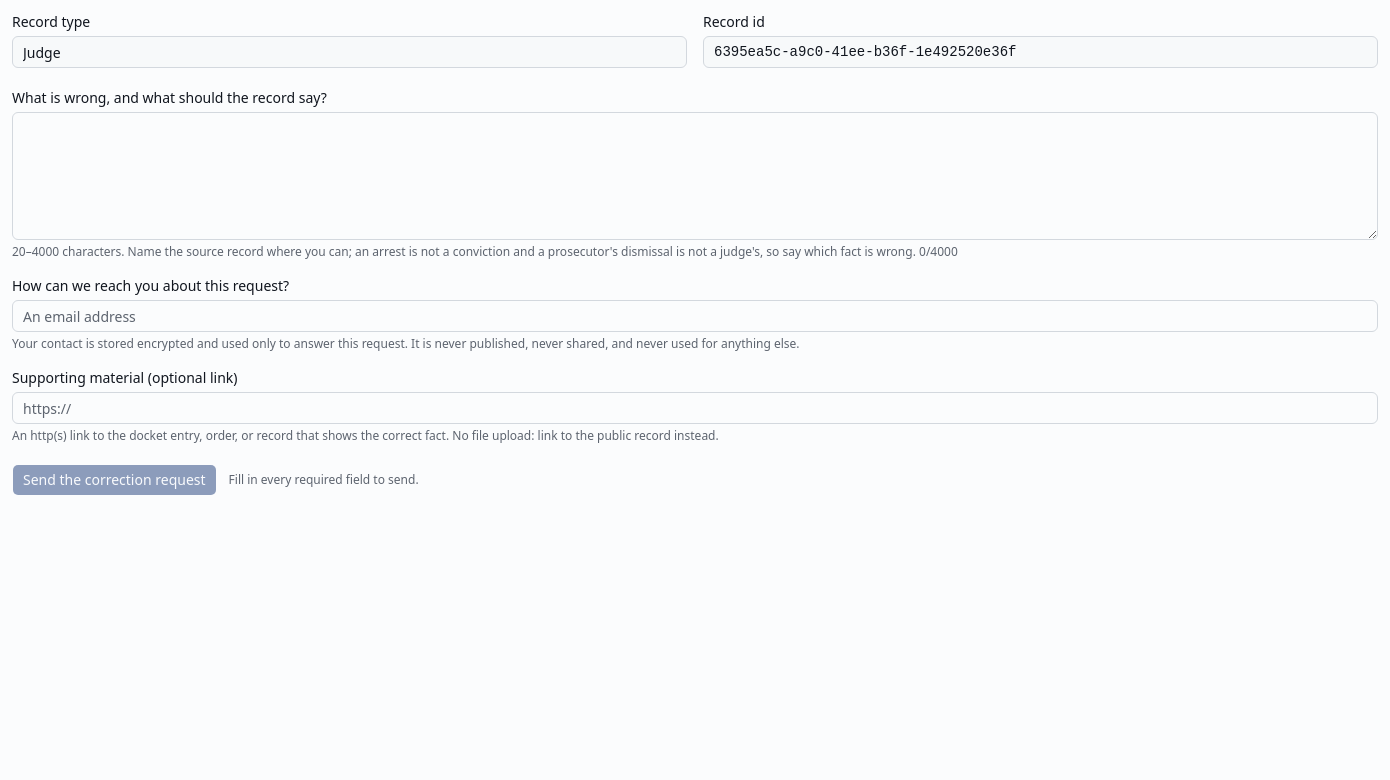
Scenario: CorrectionForm › shows the API's field errors from a 422 beside the fields
In the text box with test id "reason": coordinates (695, 176) [12, 112, 1378, 240], type "The commission date shown is 2009-08-06 but the source record says 2009-08-08."
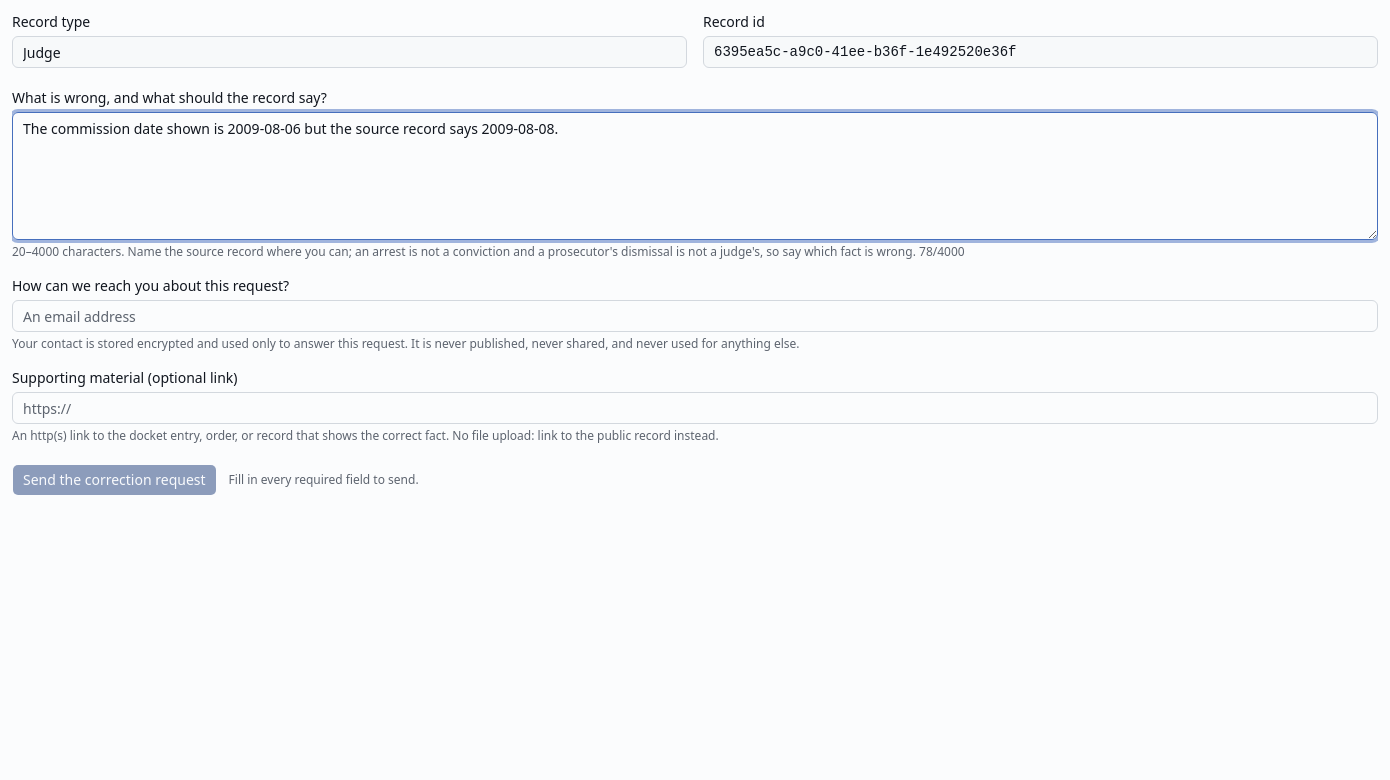
In the field with test id "contact": coordinates (695, 316) [12, 300, 1378, 332], type "requester@example.invalid"
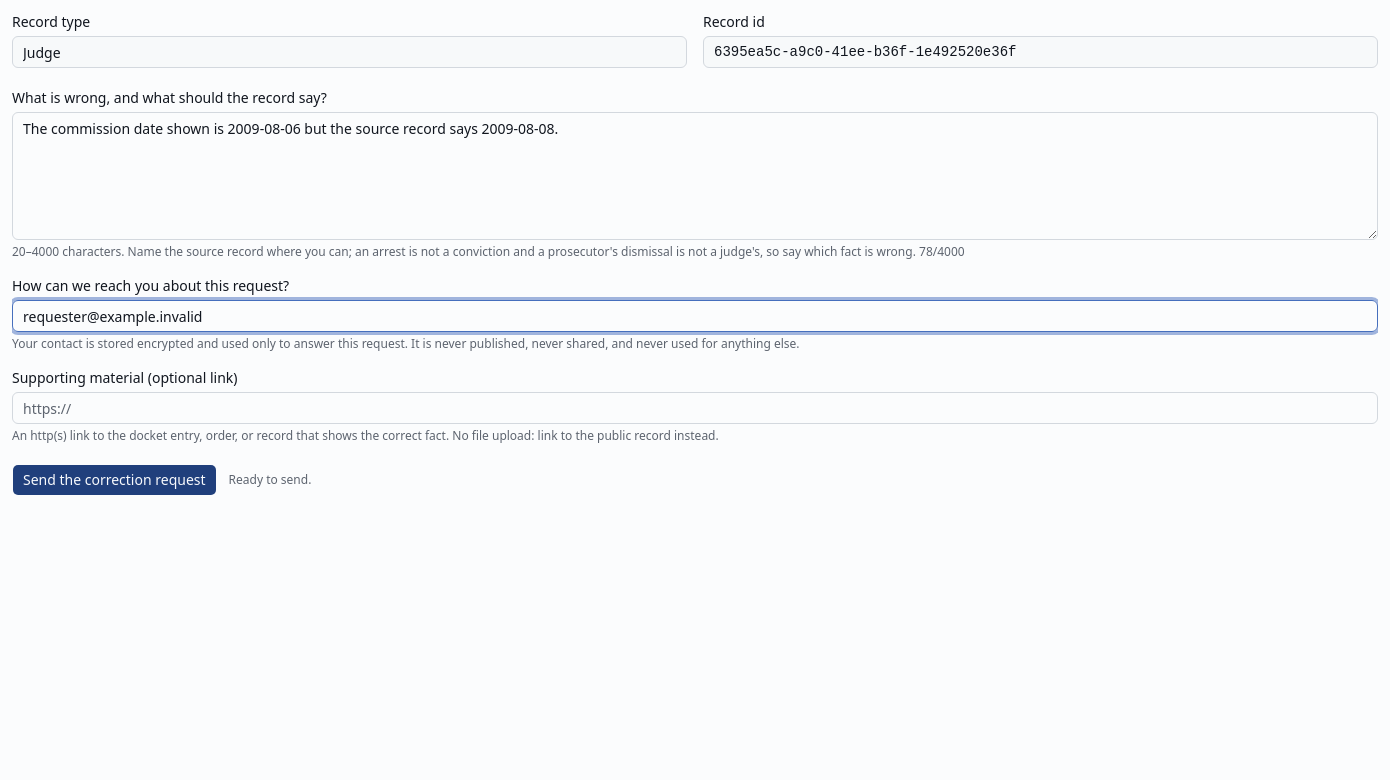
Click the button with test id "submit-correction": coordinates (114, 480) [12, 464, 217, 496]
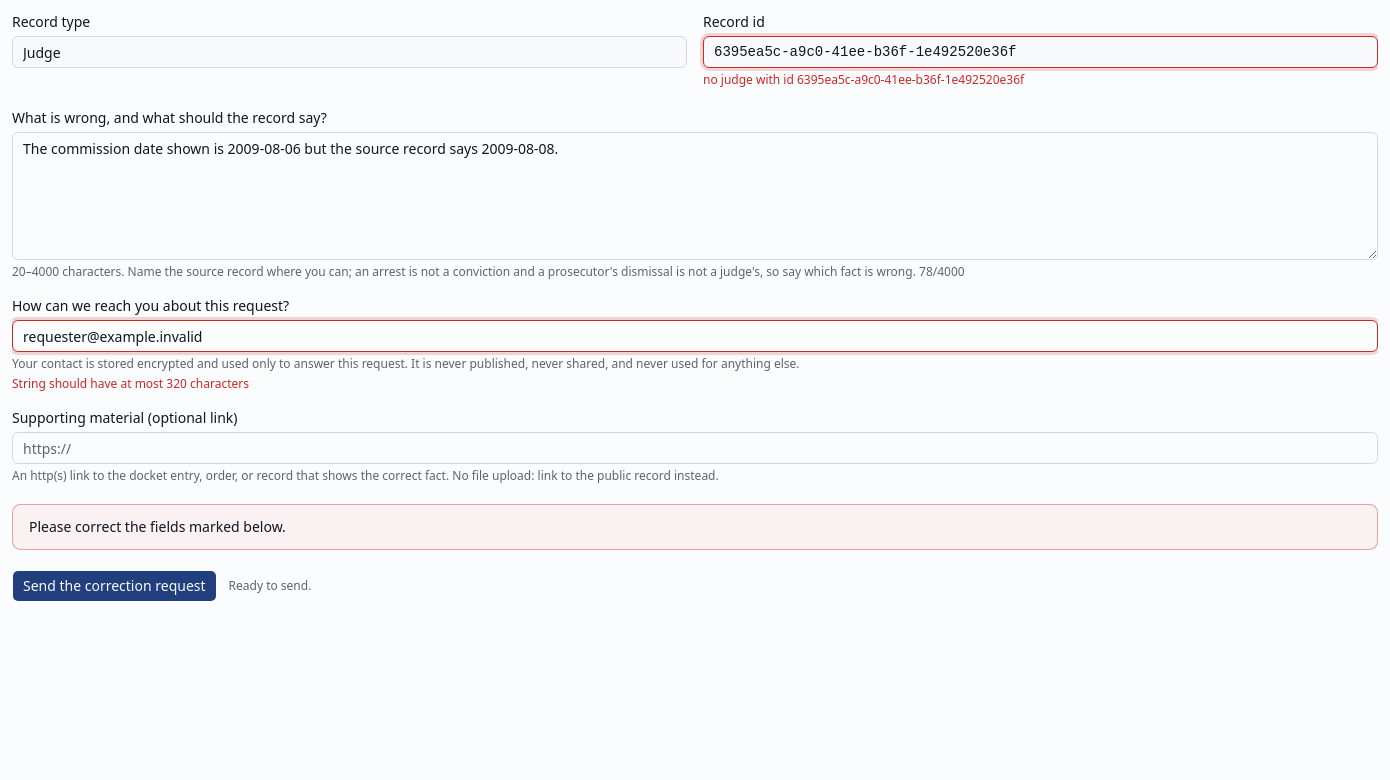
Now the message with test id "submit-error" shows "correct the fields marked below", box [29, 517, 286, 536]
Now the message with test id "field-error" reads "String should have at most 320 characters", box [12, 375, 249, 392]
